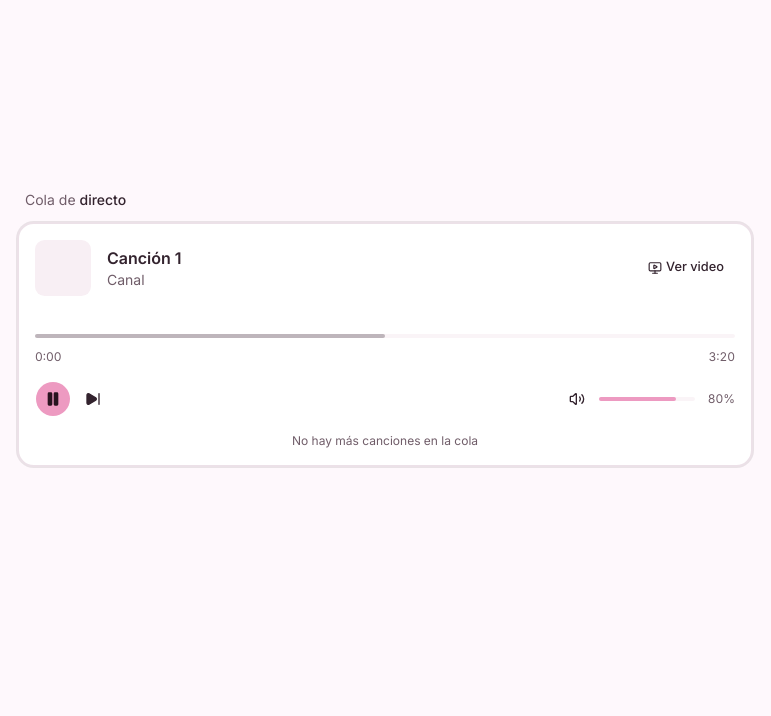
Scenario: controles › alterna entre solo audio y ver el vídeo sin recrear el reproductor
The width and height of the screenshot is (771, 716).
Click the button "Ver video": (686, 268) [637,254,735,282]
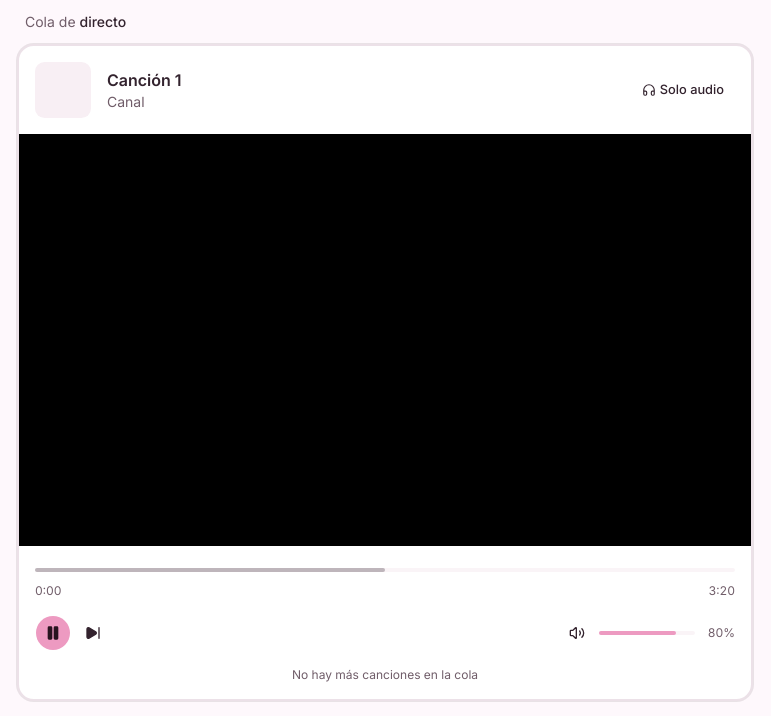
Result: the button "Solo audio" is shown at [631,76,735,104]
